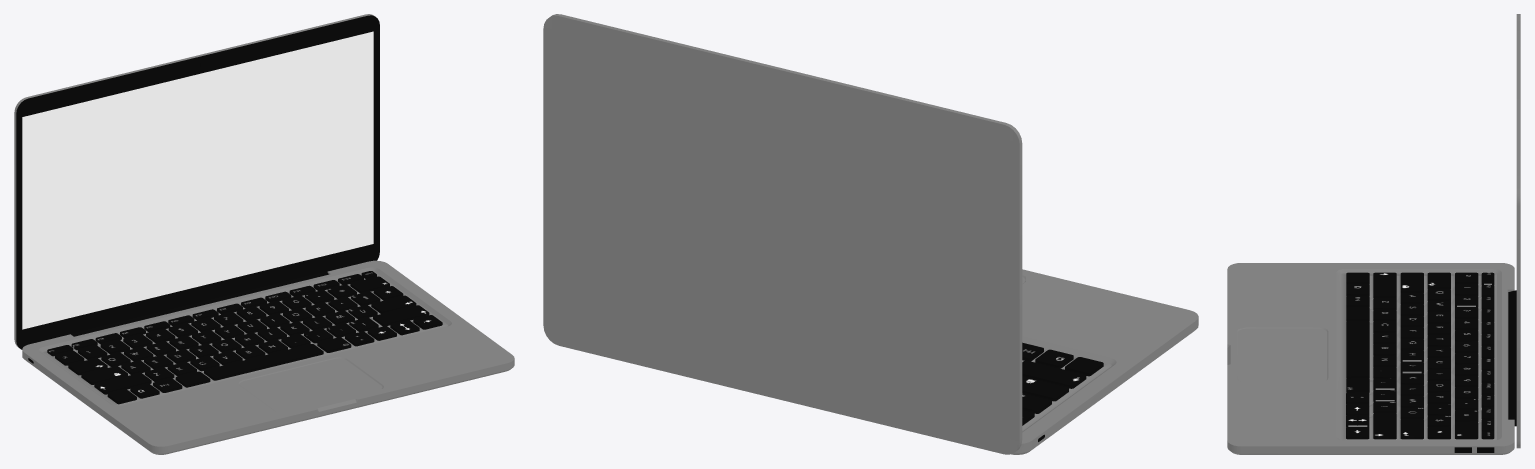
The model's file is laptop.glb.
The picture shows the model from 3 angles, left to right: view 1: azimuth 30°, elevation 25°; view 2: azimuth 150°, elevation 25°; view 3: azimuth 270°, elevation 25°; orthographic projection. The views are drawn at different scales.
Visible parts, largest first — view 1: Screen_ComputerScreen_0, Frame_ComputerFrame_0; view 2: Screen_ComputerScreen_0, Frame_ComputerFrame_0; view 3: Frame_ComputerFrame_0, Screen_ComputerScreen_0.
Part boxes in pixels (<box>): Screen_ComputerScreen_0: <box>14,14,379,349</box>; Frame_ComputerFrame_0: <box>22,260,514,454</box>; Screen_ComputerScreen_0: <box>543,14,1022,454</box>; Frame_ComputerFrame_0: <box>1011,269,1198,454</box>; Frame_ComputerFrame_0: <box>1227,263,1514,454</box>; Screen_ComputerScreen_0: <box>1508,14,1520,448</box>.
Size of the model in its own units: 30.4 by 20.56 by 20.5.
2 materials, 2 textured.
